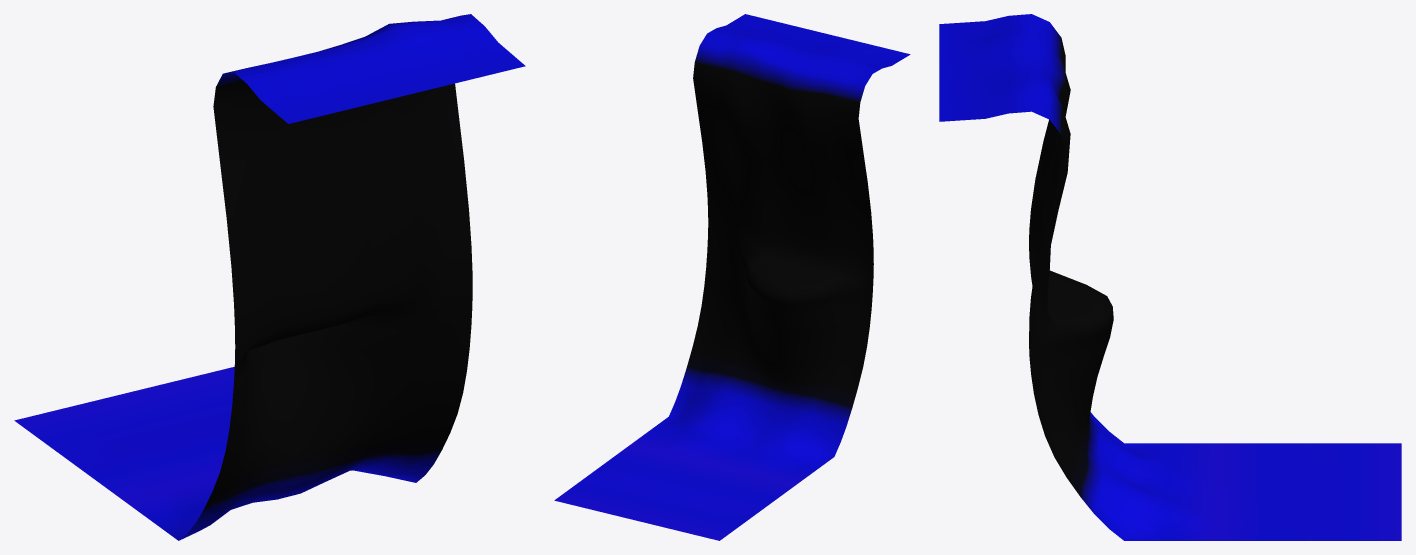
File: WaterFallCliff01C 3M.fbx
3 views of the same model, side by side, from view 1: azimuth 30°, elevation 25°; view 2: azimuth 150°, elevation 25°; view 3: azimuth 270°, elevation 25° (orthographic). The views are drawn at different scales.
Visible parts, largest first — view 1: WaterFallCliff01C 3M; view 2: WaterFallCliff01C 3M; view 3: WaterFallCliff01C 3M.
Part boxes in pixels (<box>): WaterFallCliff01C 3M: <box>14,14,525,540</box>; WaterFallCliff01C 3M: <box>554,14,910,540</box>; WaterFallCliff01C 3M: <box>939,14,1401,540</box>.
Size of the model in its own units: 1 by 2.07 by 2.
